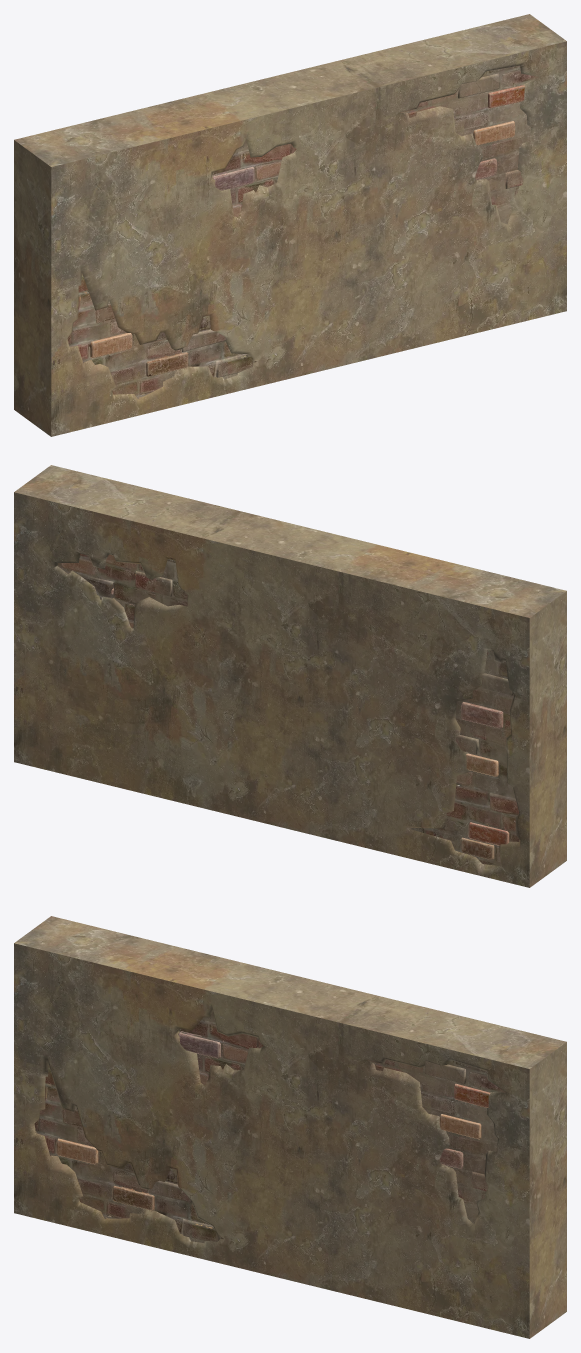
The picture shows the model from 3 angles, top to bottom: view 1: azimuth 30°, elevation 25°; view 2: azimuth 150°, elevation 25°; view 3: azimuth 330°, elevation 25°; orthographic projection.
Parts seen in each view (by area): view 1: SM_Human_Ruins_Wall_02_LOD0; view 2: SM_Human_Ruins_Wall_02_LOD0; view 3: SM_Human_Ruins_Wall_02_LOD0.
Boxes of the visible parts, x1,y1,x2,y2 form: SM_Human_Ruins_Wall_02_LOD0: [14, 14, 566, 436]; SM_Human_Ruins_Wall_02_LOD0: [14, 465, 566, 887]; SM_Human_Ruins_Wall_02_LOD0: [14, 916, 566, 1338].
Bounding box in the file's own units: 4 × 2 × 0.5042.
Materials: 3 (3 with a texture image).
